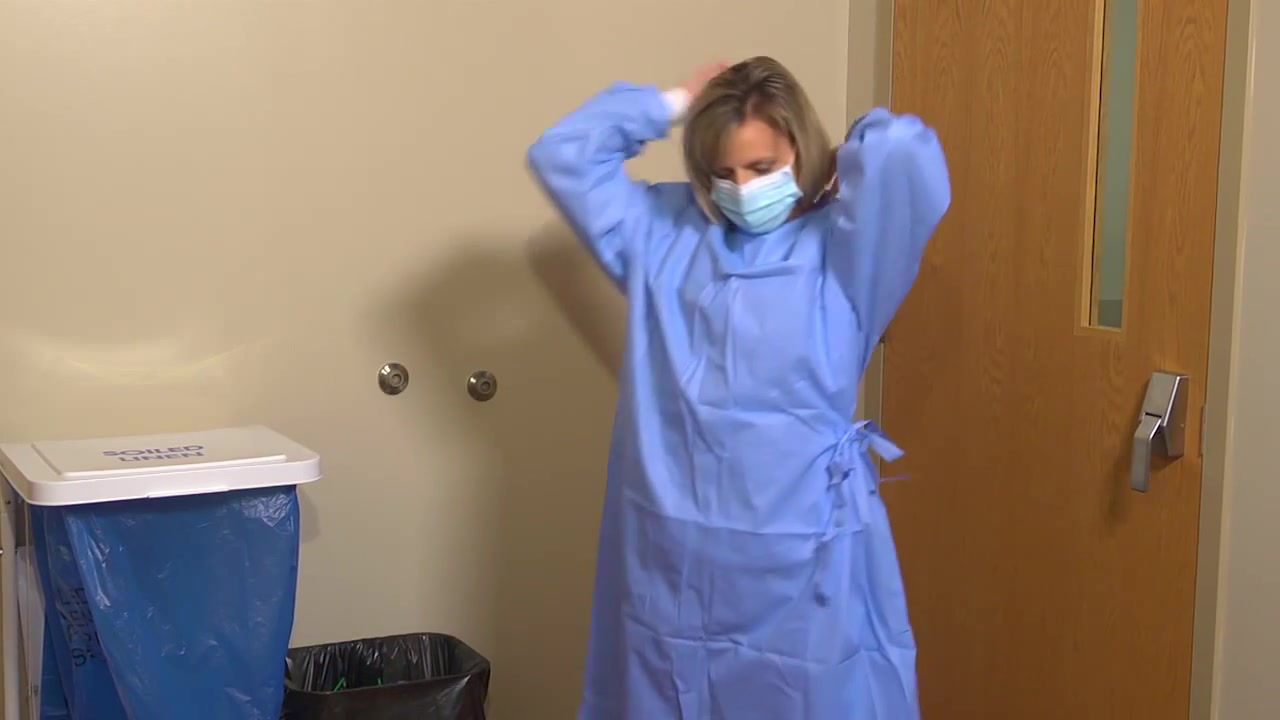Coverall: (531, 114, 950, 720)
with_mask: (696, 168, 814, 251)
